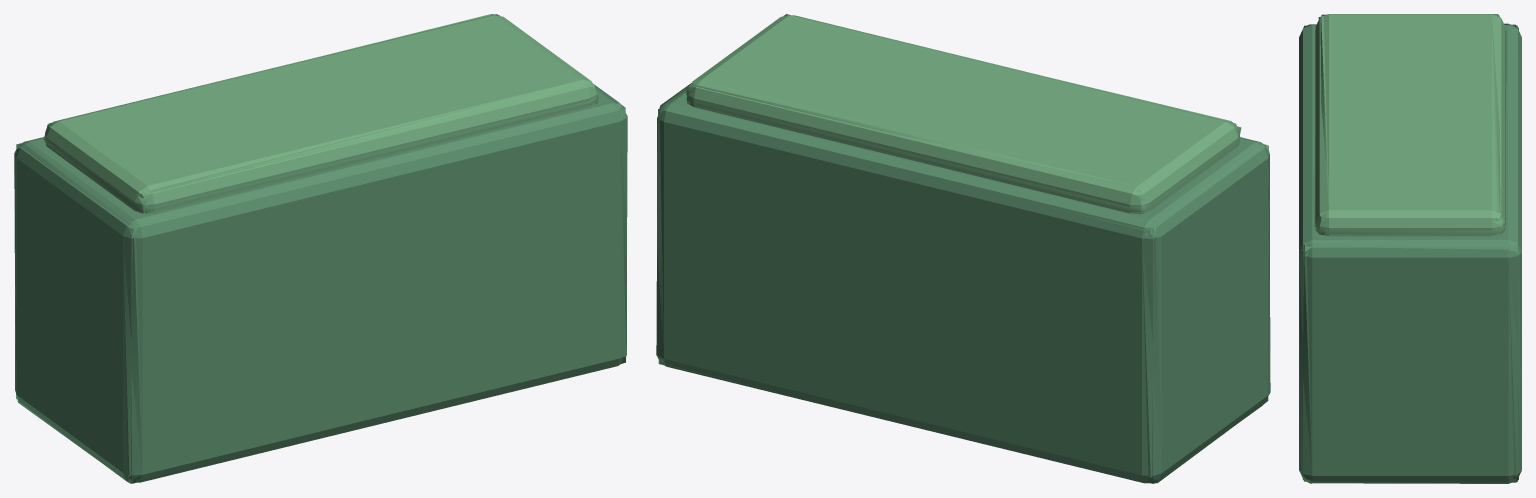
The model's file is SM_Warmerdamm_Hedge.fbx.
The picture shows the model from 3 angles, left to right: view 1: azimuth 30°, elevation 25°; view 2: azimuth 150°, elevation 25°; view 3: azimuth 270°, elevation 25°; orthographic projection. The views are drawn at different scales.
Visible parts, largest first — view 1: LOD0_SM_Warmerdamm_Hedge, LOD1_SM_Warmerdamm_Hedge, LOD2_SM_Warmerdamm_Hedge; view 2: LOD0_SM_Warmerdamm_Hedge, LOD1_SM_Warmerdamm_Hedge, LOD2_SM_Warmerdamm_Hedge; view 3: LOD0_SM_Warmerdamm_Hedge, LOD1_SM_Warmerdamm_Hedge, LOD2_SM_Warmerdamm_Hedge.
Boxes of the visible parts, bbox=[...] form: LOD0_SM_Warmerdamm_Hedge: bbox=[15, 15, 626, 482]; LOD1_SM_Warmerdamm_Hedge: bbox=[14, 14, 627, 482]; LOD2_SM_Warmerdamm_Hedge: bbox=[16, 14, 625, 483]; LOD0_SM_Warmerdamm_Hedge: bbox=[657, 15, 1269, 483]; LOD1_SM_Warmerdamm_Hedge: bbox=[656, 15, 1270, 483]; LOD2_SM_Warmerdamm_Hedge: bbox=[658, 14, 1268, 483]; LOD0_SM_Warmerdamm_Hedge: bbox=[1299, 14, 1521, 482]; LOD1_SM_Warmerdamm_Hedge: bbox=[1299, 14, 1521, 483]; LOD2_SM_Warmerdamm_Hedge: bbox=[1302, 14, 1518, 483].
Bounding box in the file's own units: 2.4 × 1.3 × 1.
